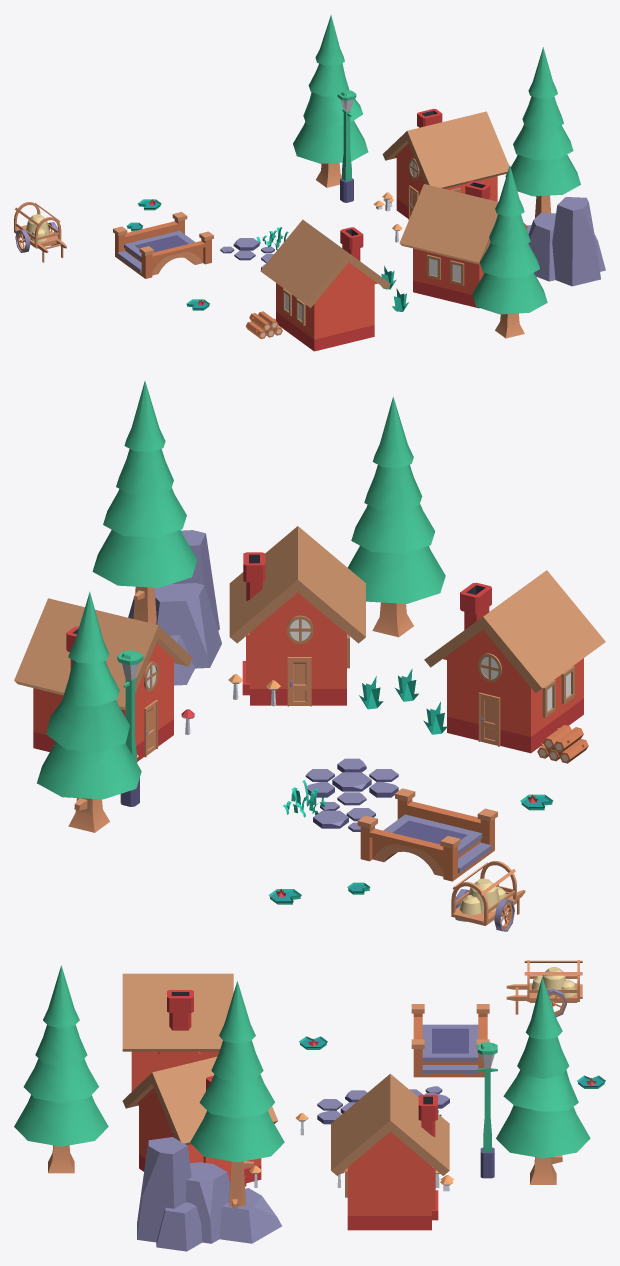
Rendered from cottages.glb.
3 renders of one model, top to bottom at view 1: azimuth 30°, elevation 25°; view 2: azimuth 150°, elevation 25°; view 3: azimuth 270°, elevation 25°, orthographic. The views are drawn at different scales.
Visible parts, largest first — view 1: mergedBlocks(Clone); view 2: mergedBlocks(Clone); view 3: mergedBlocks(Clone).
Boxes of the visible parts, x1,y1,x2,y2 form: mergedBlocks(Clone): [14, 15, 605, 351]; mergedBlocks(Clone): [14, 381, 605, 931]; mergedBlocks(Clone): [14, 960, 605, 1251].
Bounding box in the file's own units: 1.29 × 0.5949 × 1.28.
